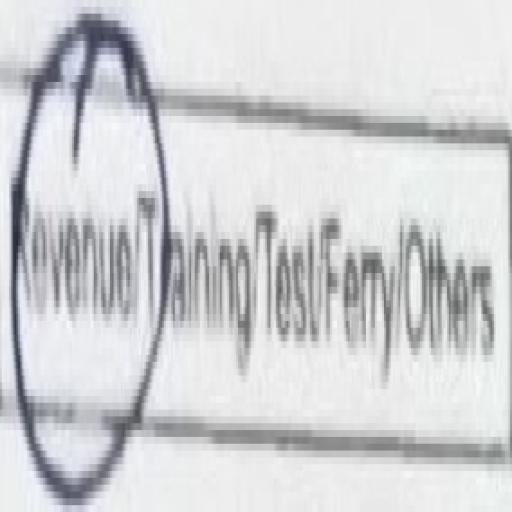check: (6, 6, 138, 512)
